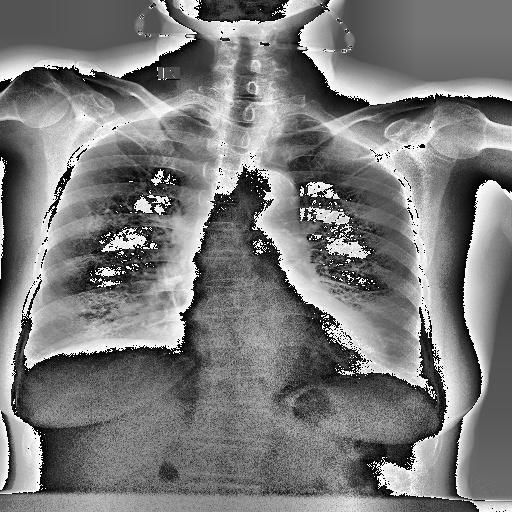0- Aortic enlargement: (238, 167, 299, 223), (246, 170, 298, 226), (240, 168, 298, 216)
11- Pleural thickening: (280, 114, 314, 126), (172, 104, 208, 110)
13- Pulmonary fibrosis: (146, 272, 184, 326), (60, 259, 78, 265)
2- Calcification: (258, 168, 290, 188)
3- Cardiomegaly: (166, 307, 388, 377), (167, 306, 388, 372), (170, 308, 390, 372)
